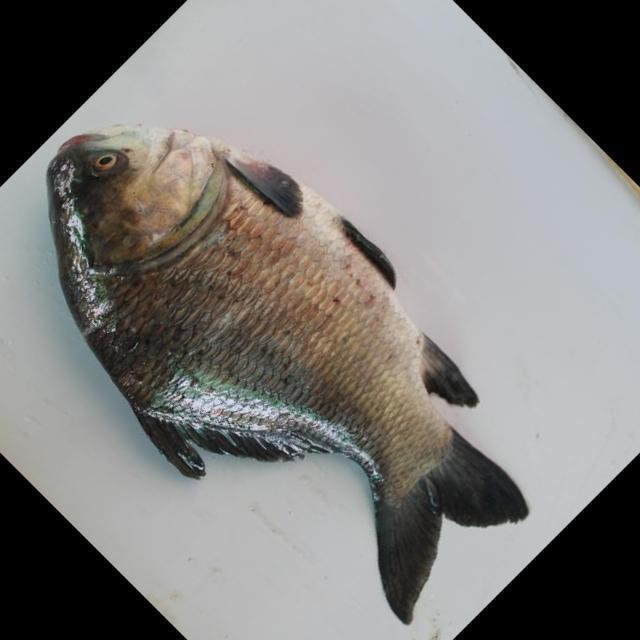Catla: (31, 124, 536, 625)
